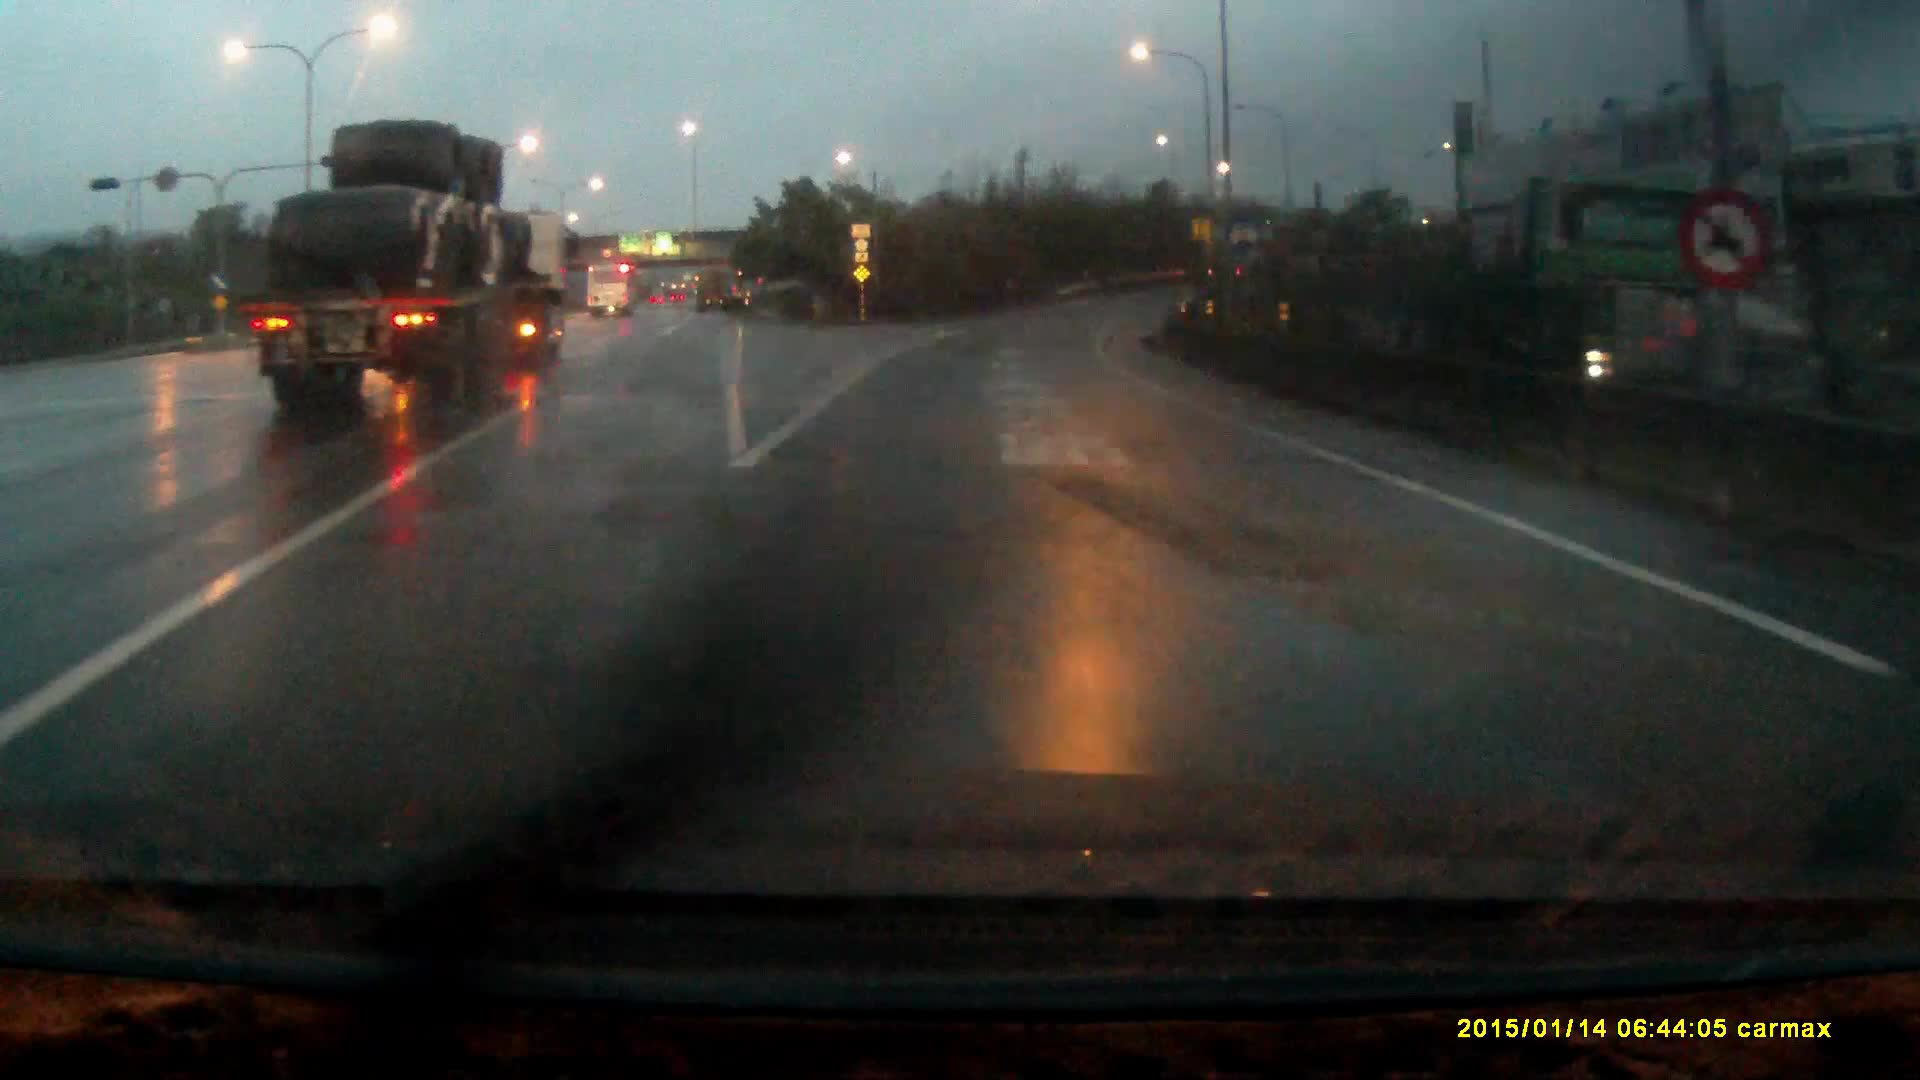vehicle: (252, 121, 575, 415), (587, 265, 642, 319)
